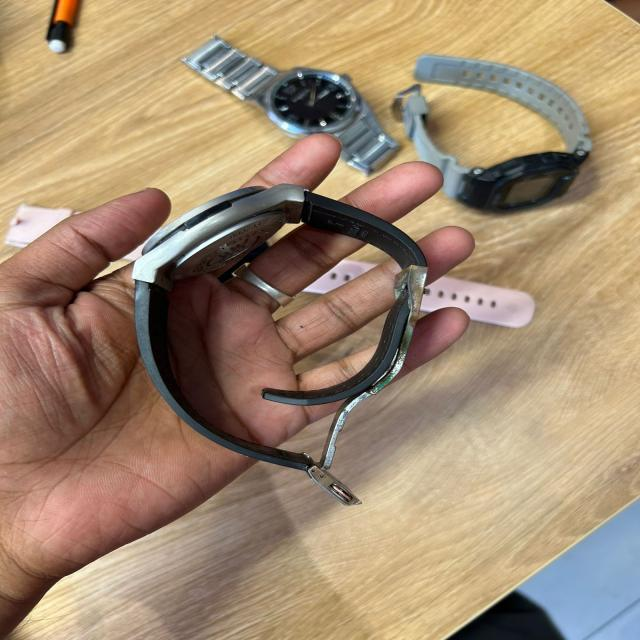watch: (130, 182, 431, 506), (391, 52, 594, 213), (179, 34, 401, 176)
